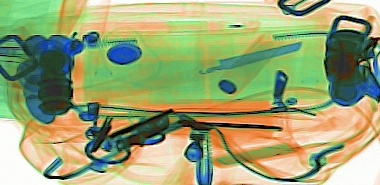knife: (140, 38, 302, 91)
